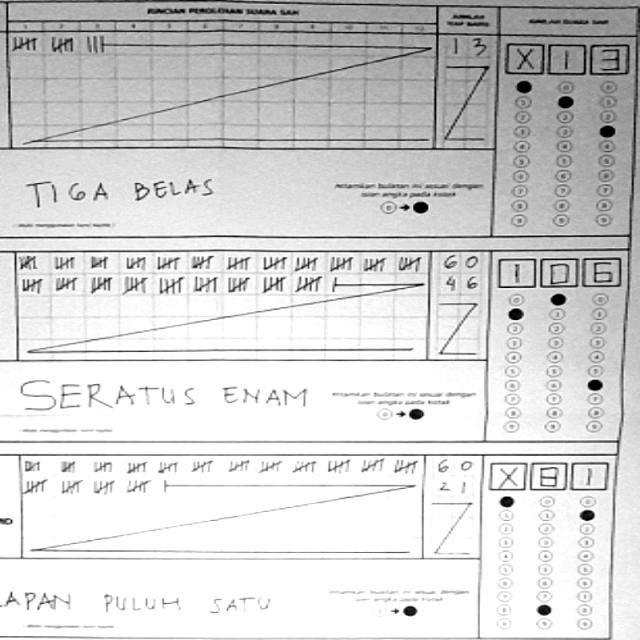Suara: (502, 37, 632, 74), (492, 254, 625, 289), (483, 457, 610, 491)
